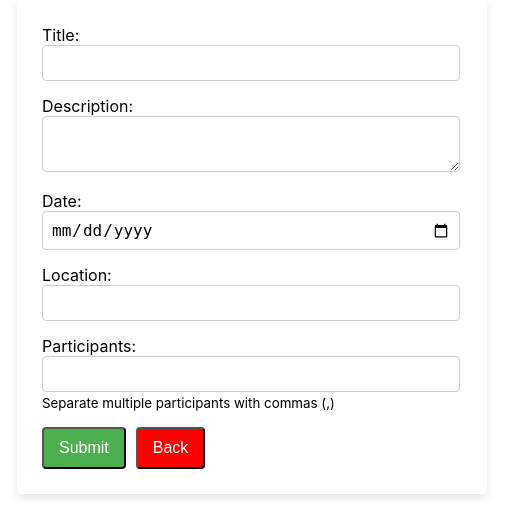
displays error messages for required fields
Click the button "Submit": click(84, 448) 42,427 -> 126,469
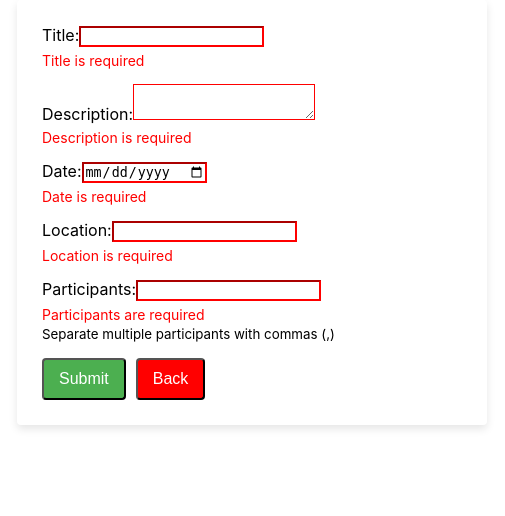
Check: the text "Title is required" is shown, box 42,52 -> 144,69
Check: the text "Description is required" is shown, box 42,129 -> 192,146
Check: the text "Date is required" is shown, box 42,188 -> 146,205
